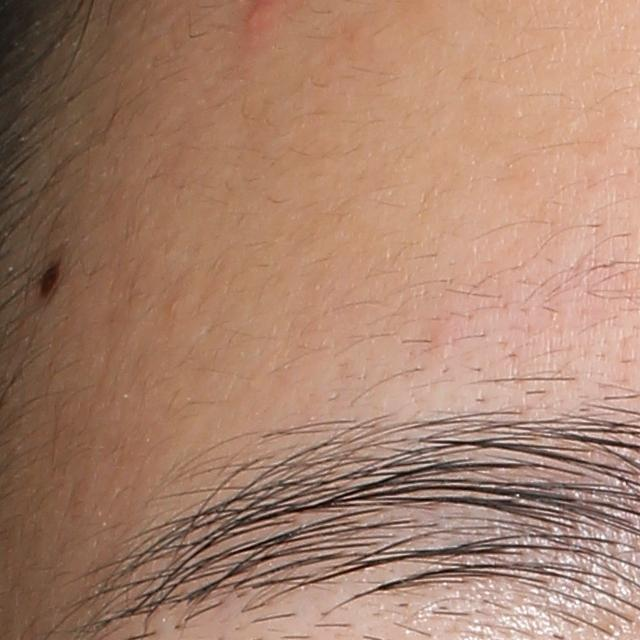nevus: (34, 259, 63, 305)
